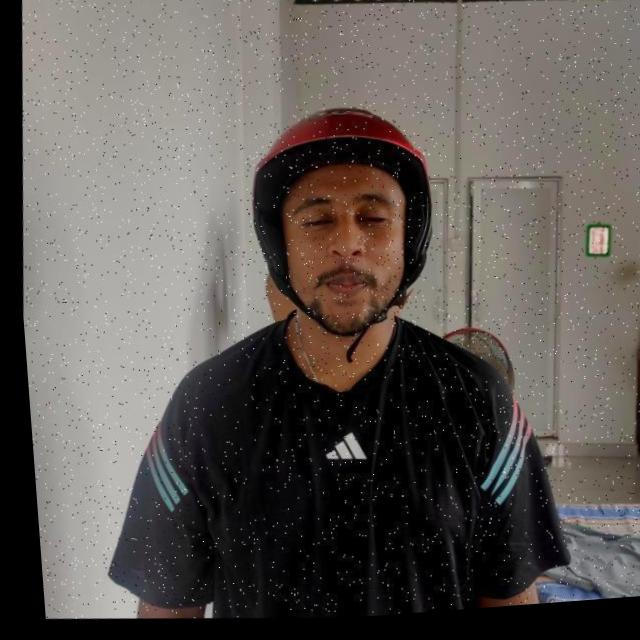helmet: (233, 100, 444, 380)
